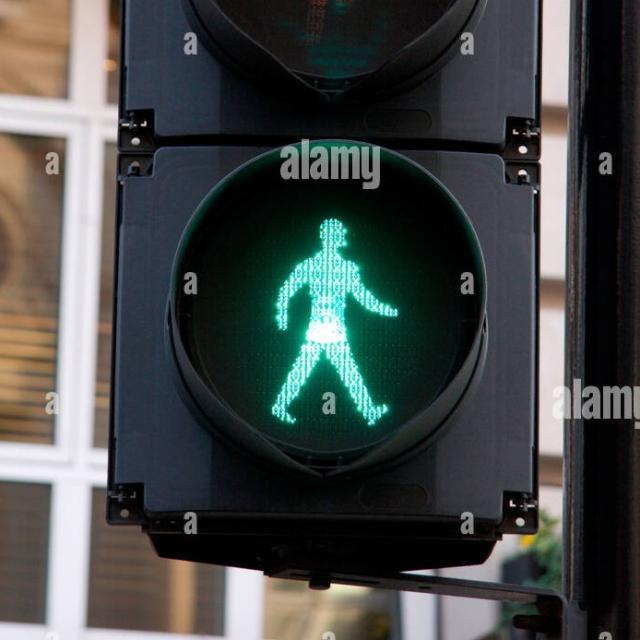geen-crossing: (250, 204, 400, 420)
